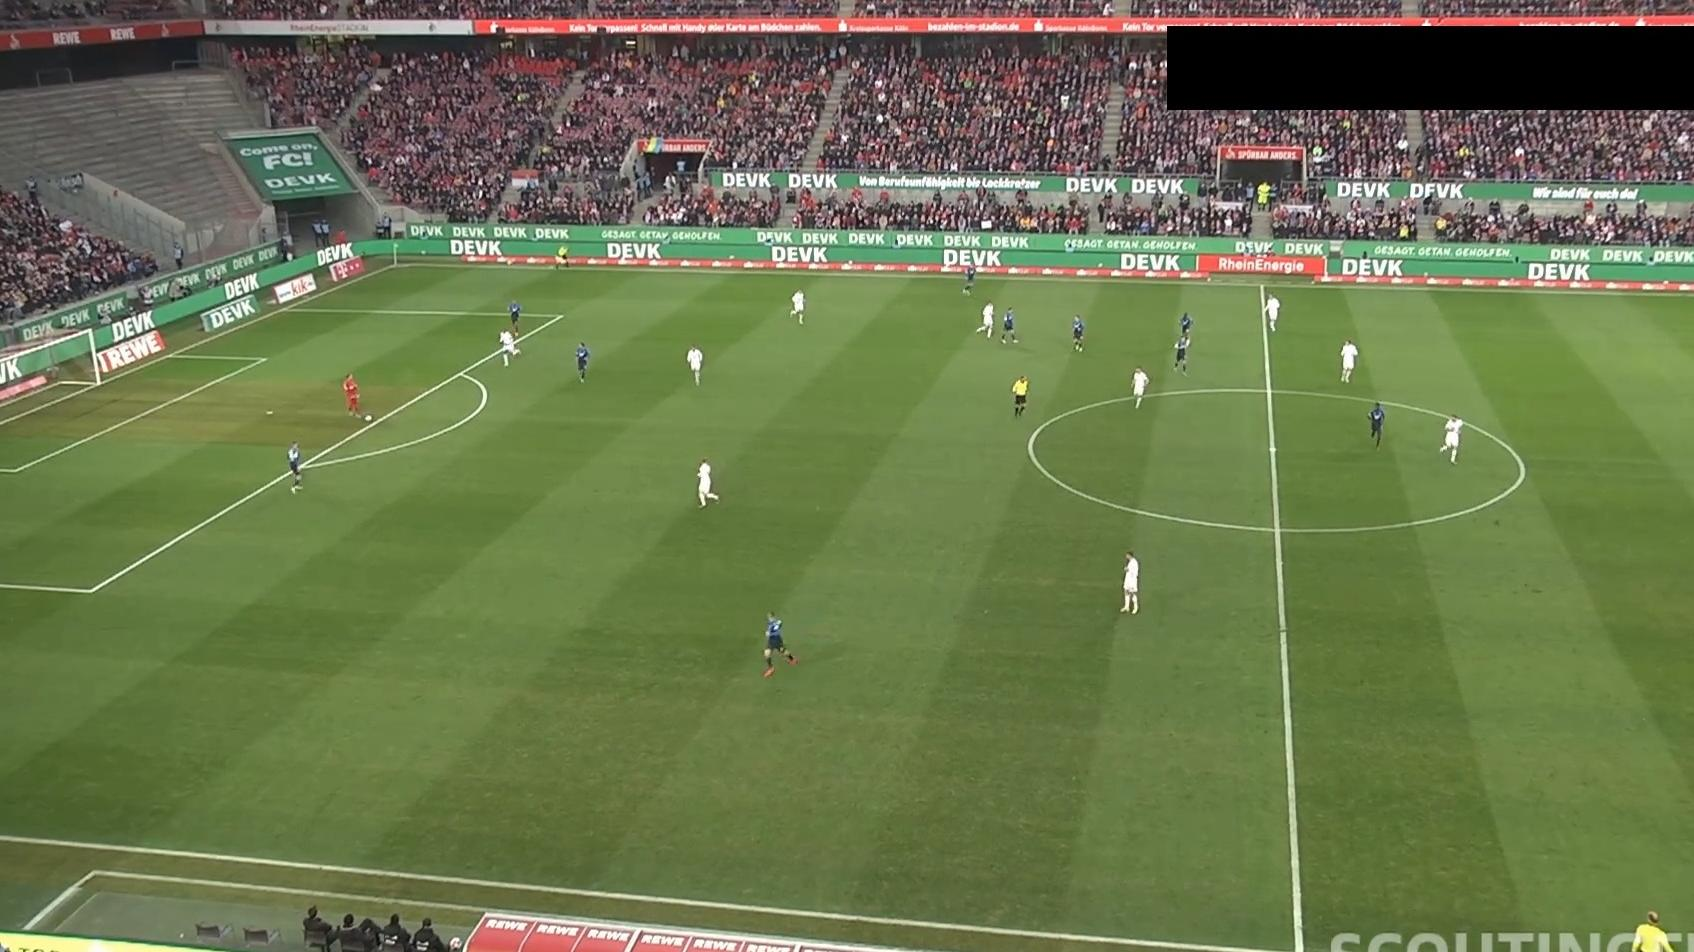ball: (364, 413, 374, 423)
